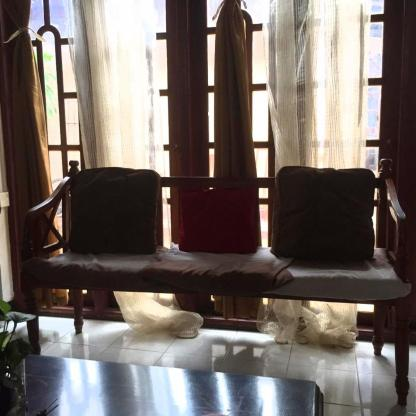Sofa: (23, 159, 410, 403)
